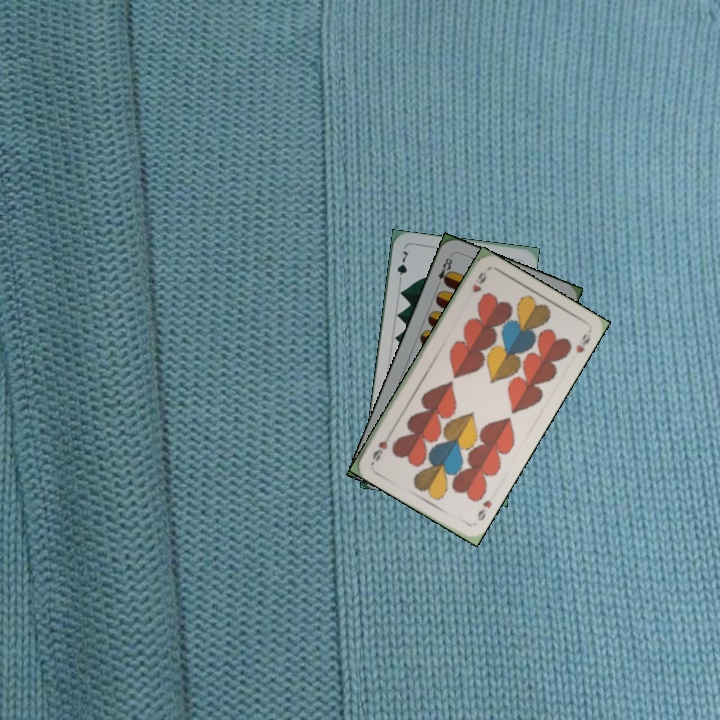E8: (432, 252, 455, 290)
G7: (393, 247, 411, 286)
H9: (473, 496, 495, 524), (468, 267, 489, 295)
